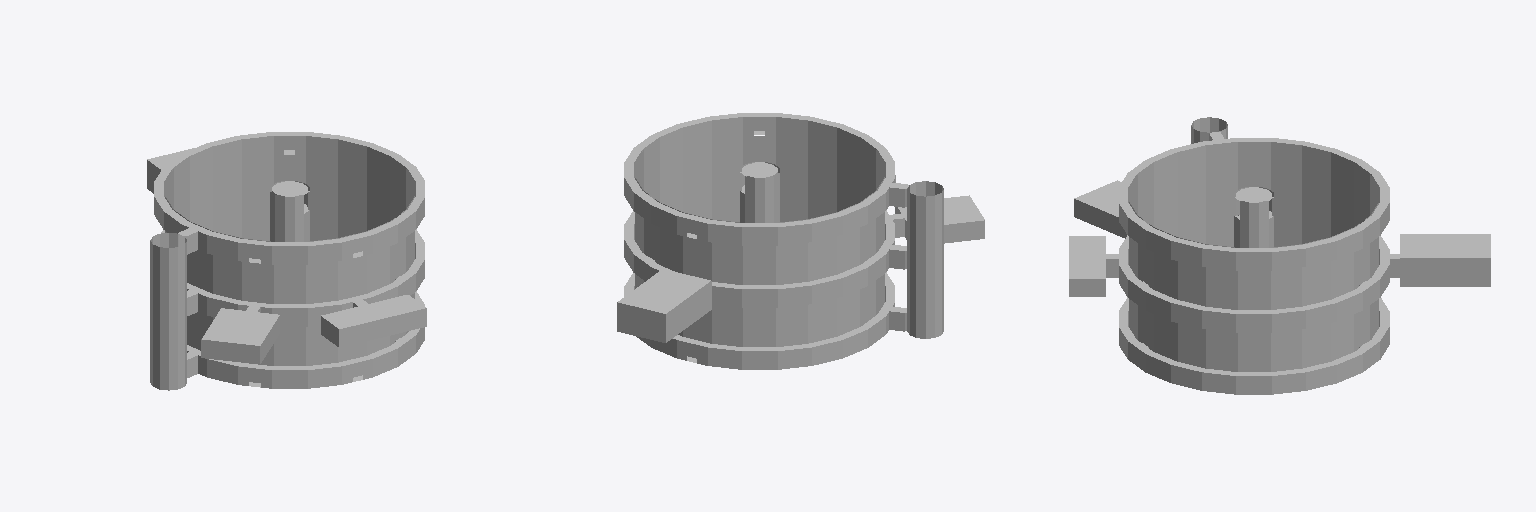
Rendered from map.obj.
The picture shows the model from 3 angles: view 1: azimuth 30°, elevation 25°; view 2: azimuth 150°, elevation 25°; view 3: azimuth 270°, elevation 25°; orthographic projection.
Visible parts, largest first — view 1: Map_Base.003; view 2: Map_Base.003; view 3: Map_Base.003.
Boxes of the visible parts, <box> form: Map_Base.003: <box>147,132,426,390</box>; Map_Base.003: <box>617,113,984,369</box>; Map_Base.003: <box>1069,117,1490,394</box>.
Bounding box in the file's own units: 187 × 92.03 × 247.